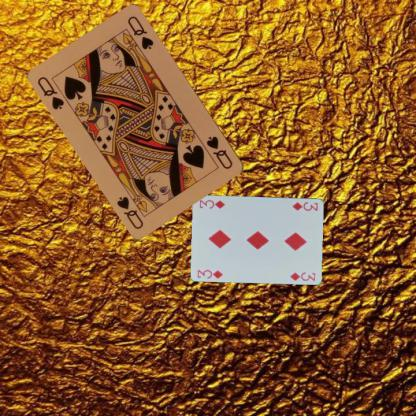3d: (289, 199, 319, 212), (195, 267, 224, 280)
Qs: (35, 74, 66, 111), (204, 134, 235, 170)
